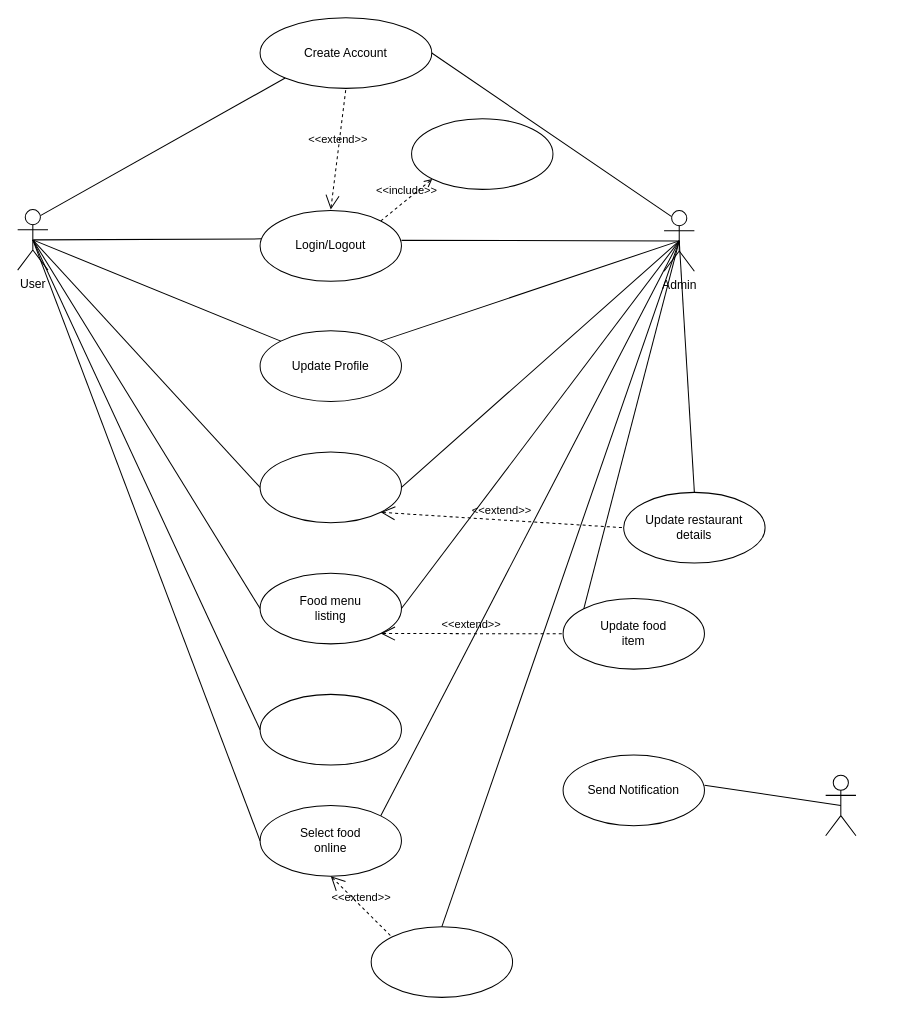
Some shapes in this 909 by 1015 pixel diagram are drawn without their labels. The shapes that lost their labels are listed below. From the top down, each one's centre as x and y in pixels, then its label:
the point at 482,153: Authentication
the point at 330,487: Search for Restaurant
the point at 330,729: Check notification
the point at 840,805: Notification service
the point at 441,961: Show bill details
